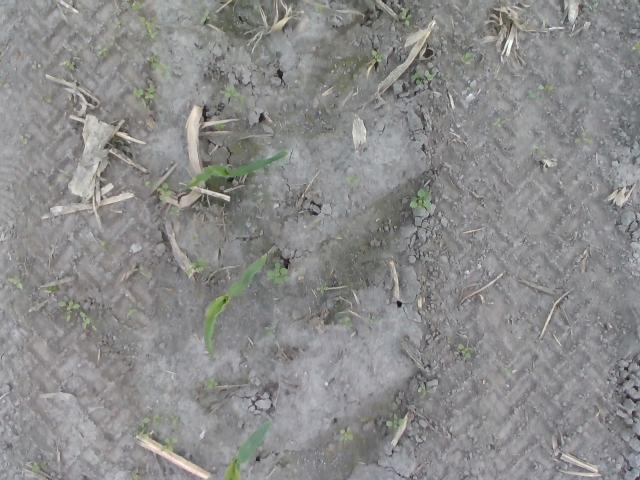Maize: (202, 252, 270, 356), (186, 151, 290, 192), (222, 420, 273, 480)
Weeds: (132, 416, 181, 454), (95, 7, 126, 60), (58, 301, 92, 333), (130, 0, 156, 36), (10, 280, 61, 298), (146, 181, 171, 201), (412, 190, 434, 210), (268, 263, 288, 283), (132, 90, 154, 107), (187, 257, 204, 276), (529, 85, 552, 99), (398, 5, 412, 27), (146, 57, 166, 72), (386, 416, 404, 432), (458, 340, 472, 359), (411, 72, 437, 82), (222, 86, 240, 100), (58, 61, 80, 72), (575, 134, 592, 148), (461, 52, 475, 65), (340, 429, 355, 441), (205, 380, 218, 393), (373, 52, 385, 66), (264, 326, 276, 340), (338, 316, 352, 328), (125, 469, 138, 480), (346, 176, 360, 186), (170, 204, 179, 218), (27, 464, 38, 474), (318, 284, 328, 294), (493, 120, 504, 129), (128, 308, 136, 316), (100, 242, 108, 249), (139, 266, 146, 272)
